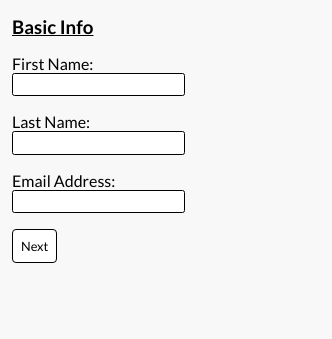
Test: successful forward step transitions and form submission › step two renders after step one
The image size is (332, 339).
Step 1. Type "John" into the field labelled "First Name:" → (99, 85), box [12,73,185,96]
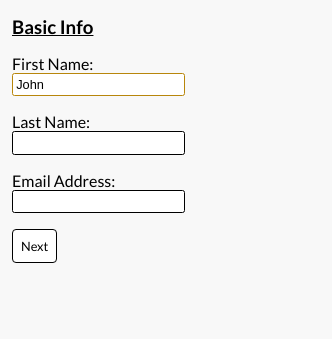
Step 2. Type "Smith" into the field labelled "Last Name:" → (99, 143), box [12,131,185,155]
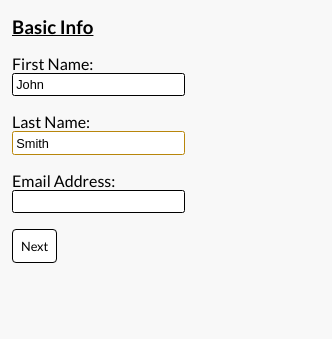
Step 3. Type "john@test.com" into the field labelled "Email Address:" → (99, 202), box [12,190,185,213]
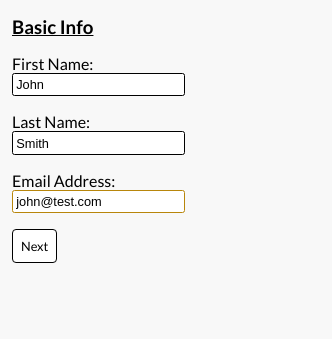
Step 4. Click the button "Next" → (35, 246), box [12,229,57,263]
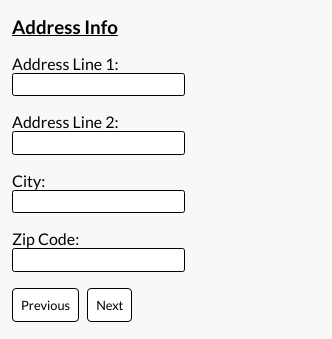
Result: the heading "Address Info" is shown at [12,16,118,38]
